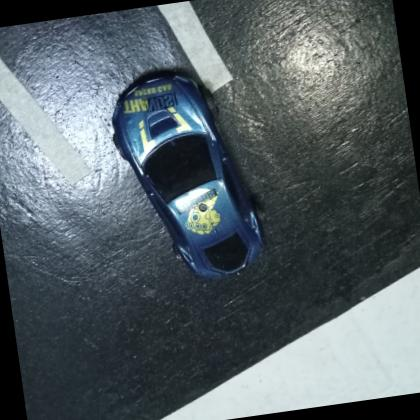Car: (112, 69, 265, 279)
